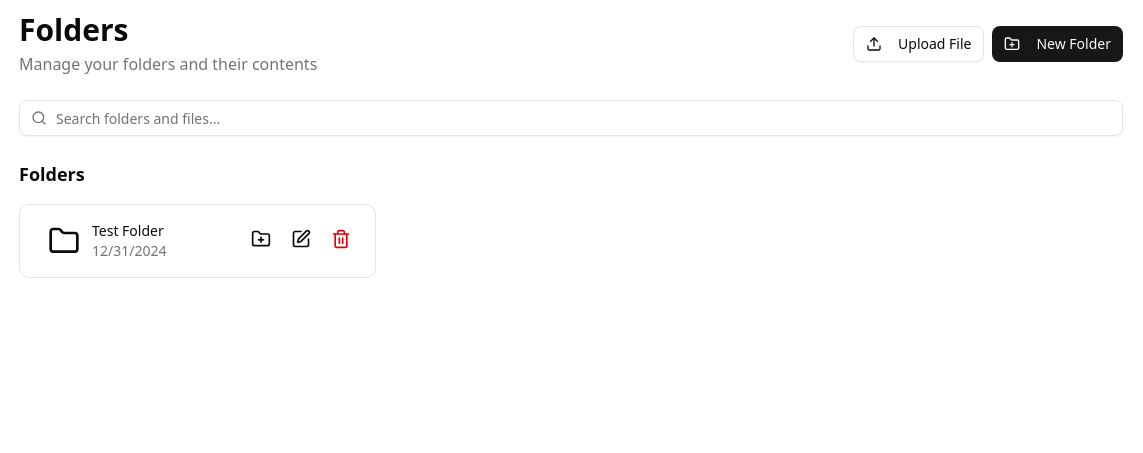
Test: FoldersPage › shows no results message when search has no matches
Type "nonexistent" into the field with placeholder "Search folders and files...".
click(571, 118); type("nonexistent")  # box [19, 100, 1123, 136]
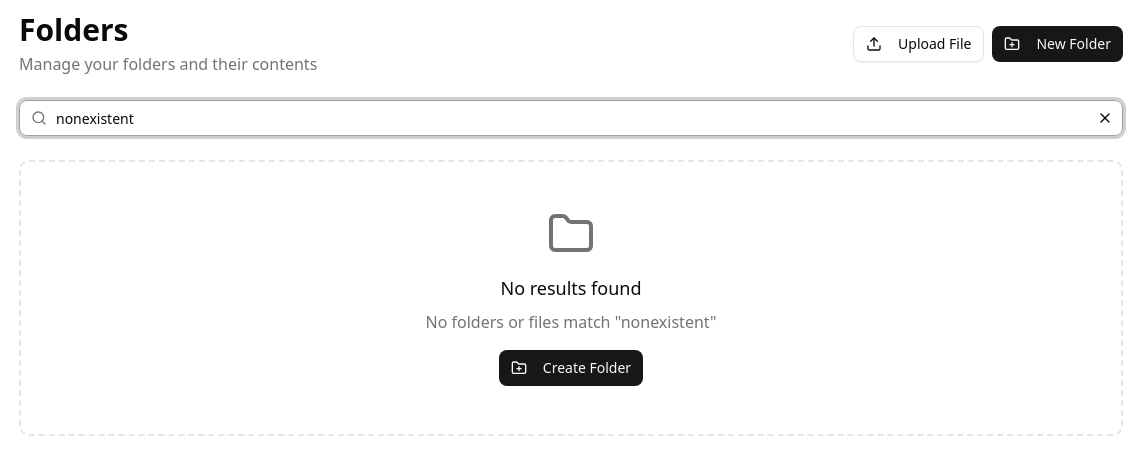
Expected: the heading "No results found" is shown, [500, 276, 642, 300]
